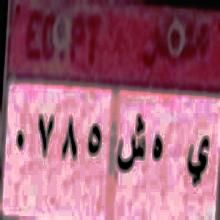0: (14, 122, 28, 166)
5: (86, 116, 104, 161)
7: (38, 107, 56, 168)
8: (59, 104, 78, 169)
haa: (150, 126, 165, 170)
sheen: (118, 113, 146, 185)
yaa: (187, 130, 211, 195)
